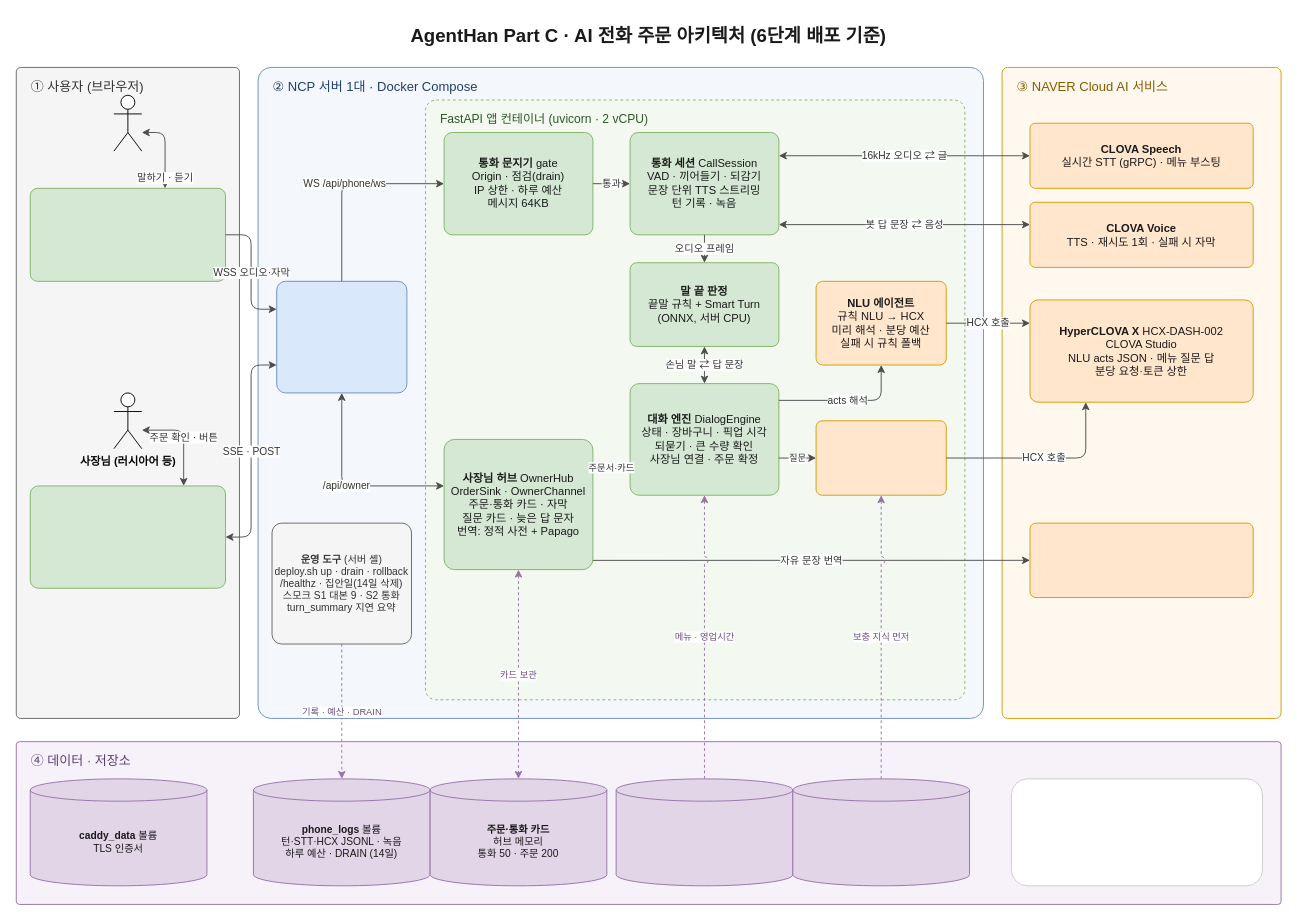
Image size: 1297x921. Some labels were removed from this diagram. Each missing label, with the centre of its shape:
Caddy HTTPS (Let's Encrypt) agenthan.duckdns.org 로그의 key 가림: pixel 341 336
Papago 번역 카드 자유 문장 → 사장님 언어: pixel 1141 560
가게 데이터 JSON StoreKnowledge · 메뉴·옵션 영업시간 · phone 설정: pixel 704 832
답변기 answerer 메뉴 질문 → HCX 가게 자료 근거 검사: pixel 880 457
범례 초록: Part C 코드 · 화면 주황: LLM·AI 호출 파랑: 인프라 · 회색: 운영 보라 점선: 데이터 읽기·쓰기: pixel 1136 832
사장님 보충 지식 KnowledgeStore (메모리) 다음 손님부터 답: pixel 881 832
사장님 화면 /owner?key=&lang=ru 주문 카드 · 통화 자막 질문 카드 버튼 답 알림 소리 · Wake Lock: pixel 127 536
손님 (한국어): pixel 127 122
손님 통화 화면 /phone React · 마이크 16kHz 반이중 · 재생 시작에 마이크 닫기 QR로 폰 크롬에서 열기: pixel 127 234
